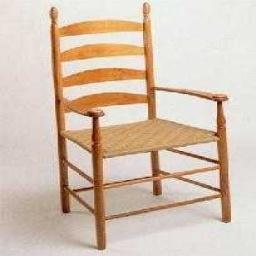Chair: (48, 8, 233, 251)
